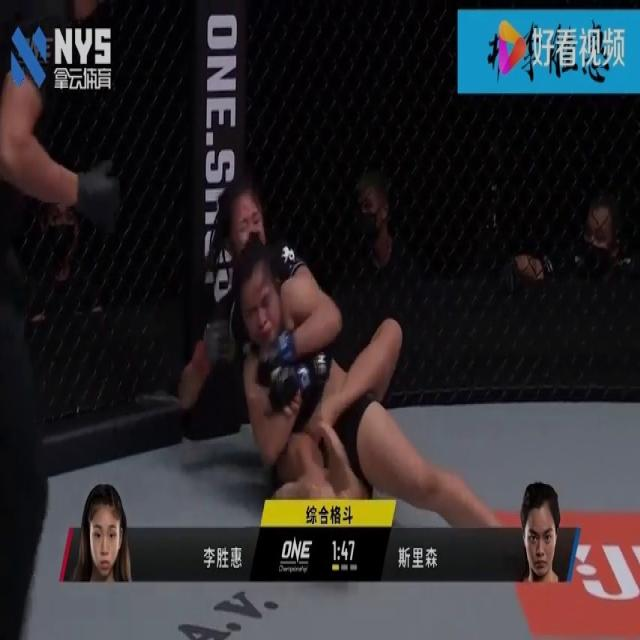fight: (166, 157, 504, 530)
